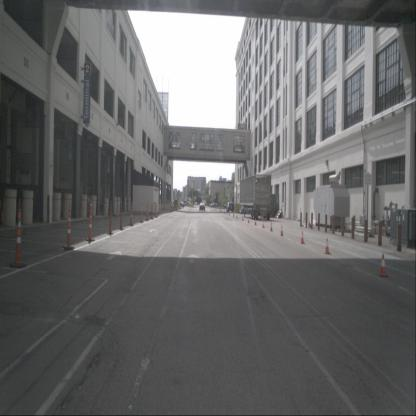cone: (9, 200, 27, 268), (62, 201, 75, 250), (85, 200, 96, 242), (106, 200, 115, 235), (378, 253, 388, 277), (118, 200, 125, 231), (128, 202, 134, 226), (324, 238, 330, 254), (145, 202, 150, 221), (139, 204, 144, 223), (300, 230, 305, 244), (150, 203, 154, 220), (155, 204, 158, 218), (280, 226, 284, 236), (270, 222, 273, 232), (262, 219, 265, 228), (241, 215, 244, 221), (247, 217, 250, 223), (254, 220, 257, 226)
